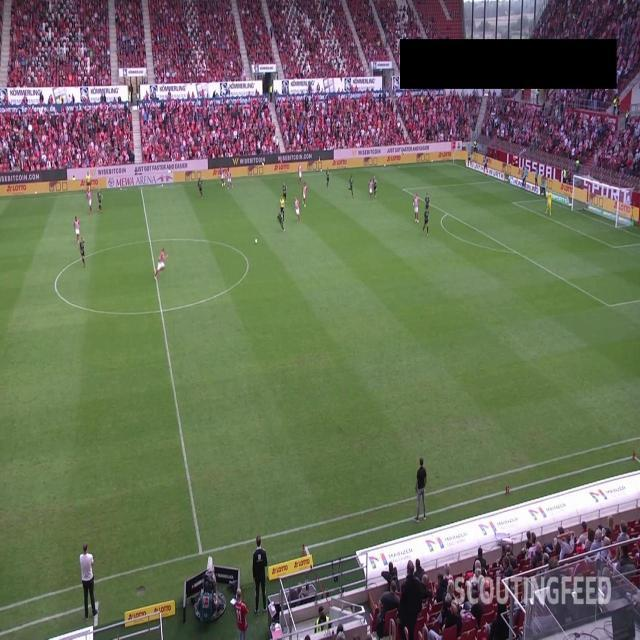arbitro: (279, 195, 286, 216)
football: (254, 239, 258, 243)
goleiro: (545, 191, 553, 216)
jogador: (155, 246, 167, 277), (292, 196, 304, 221), (86, 188, 96, 212), (412, 195, 420, 223), (296, 162, 307, 181), (79, 238, 86, 266), (422, 208, 429, 232), (73, 217, 80, 240), (278, 209, 285, 231), (295, 198, 301, 223), (228, 172, 235, 190), (97, 191, 103, 211), (302, 184, 308, 204), (198, 178, 204, 198), (348, 176, 354, 196), (222, 167, 227, 190), (226, 172, 232, 191), (372, 177, 377, 198), (220, 171, 226, 188), (424, 193, 430, 210), (325, 170, 330, 188), (298, 165, 303, 182), (282, 183, 287, 200), (88, 195, 92, 215)
